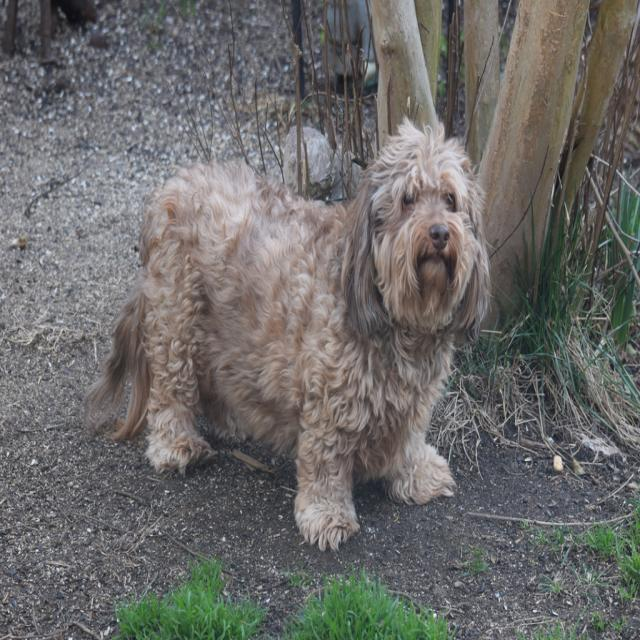Dog: (77, 114, 496, 551)
